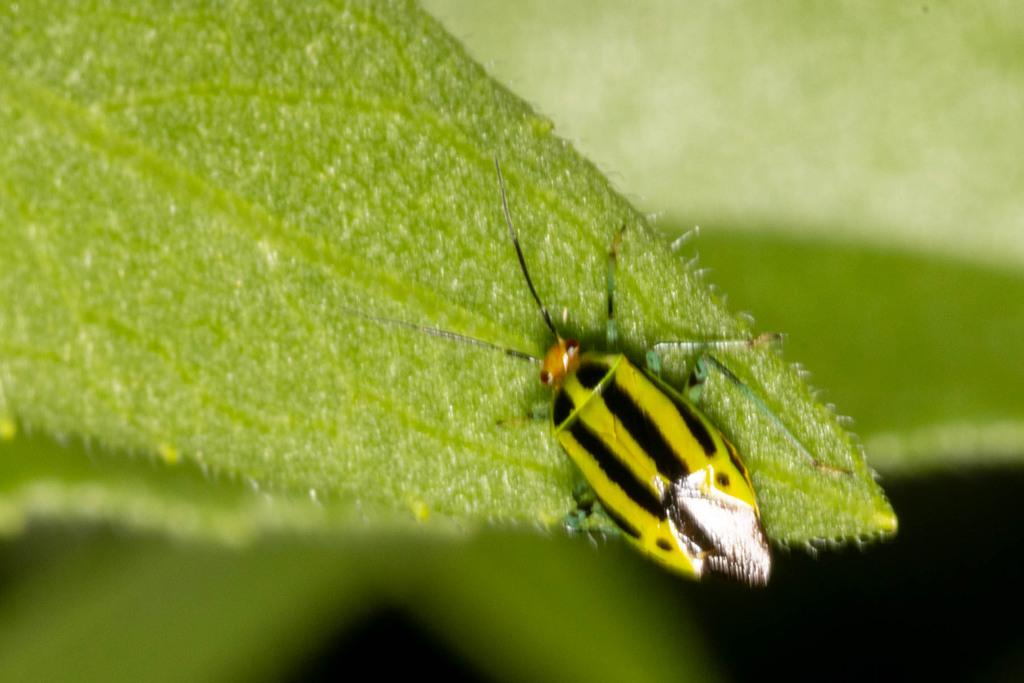plant_bugs: (272, 127, 870, 644)
